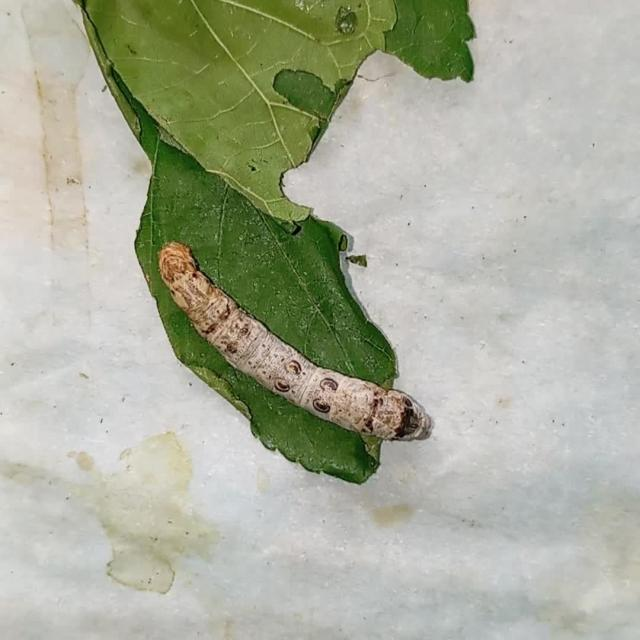Grasserie: (156, 237, 444, 449)
